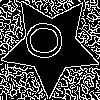O: (25, 20, 71, 61)
